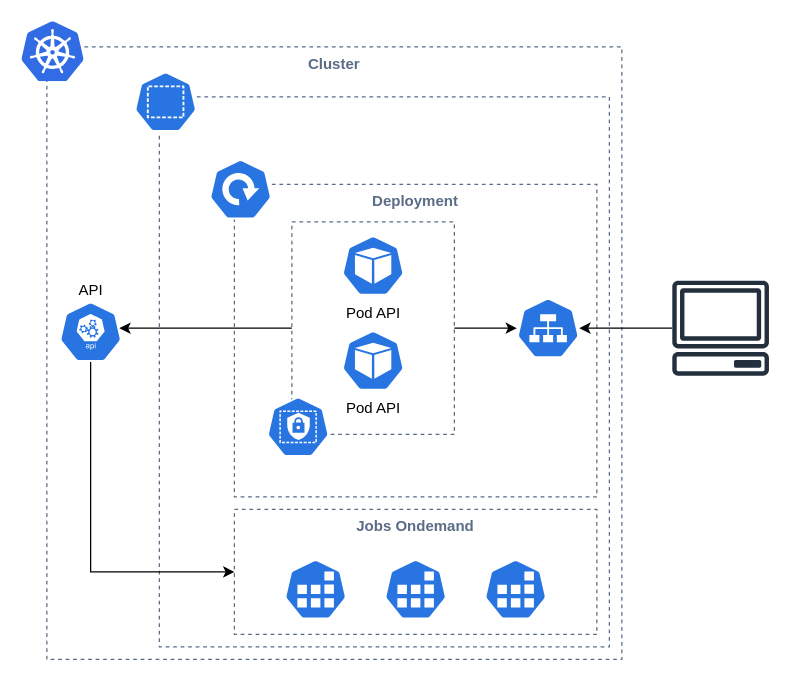
Image size: 790x681. Some labels were removed from this diagram. Here are the shapes that lost their labels. From the top down, the box of each, then its label:
(516, 297, 579, 358): Service
(158, 96, 609, 647): Namespace - Default
(266, 396, 329, 457): Role
